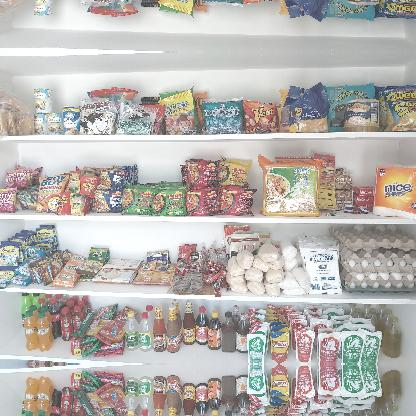Lady-s-Choice: (342, 99, 380, 132)
